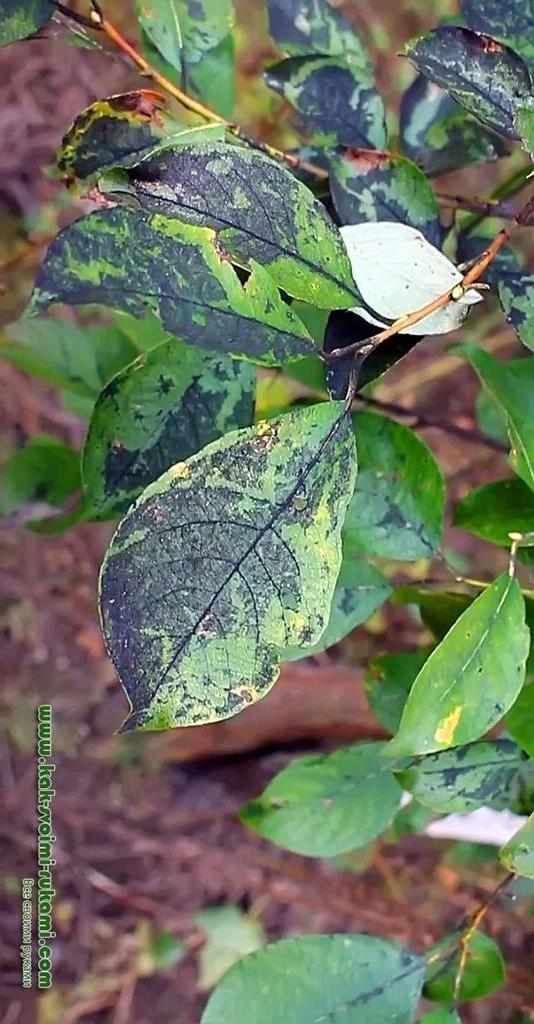soot dew: (96, 416, 357, 739), (34, 206, 319, 363), (98, 142, 311, 265), (101, 366, 226, 489), (402, 27, 532, 140), (306, 67, 378, 145), (80, 116, 154, 179), (375, 193, 438, 244), (330, 162, 372, 233), (349, 164, 394, 191)
